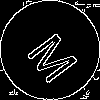M: (25, 25, 87, 86)
